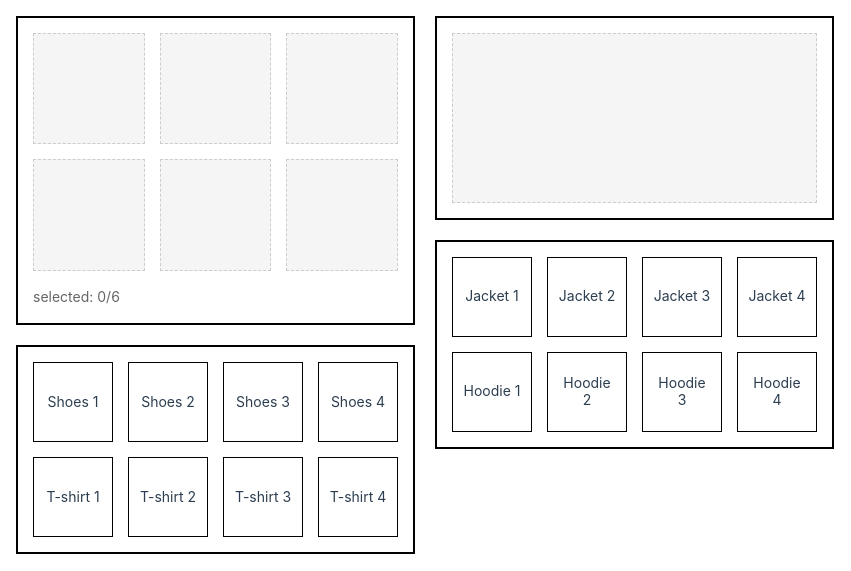
Item Selection Tests › should allow selecting only one store item
// Выбираем первый предмет
Click the element with class "item-box" showing "Jacket 1" at (492,297), box [452, 257, 532, 337]
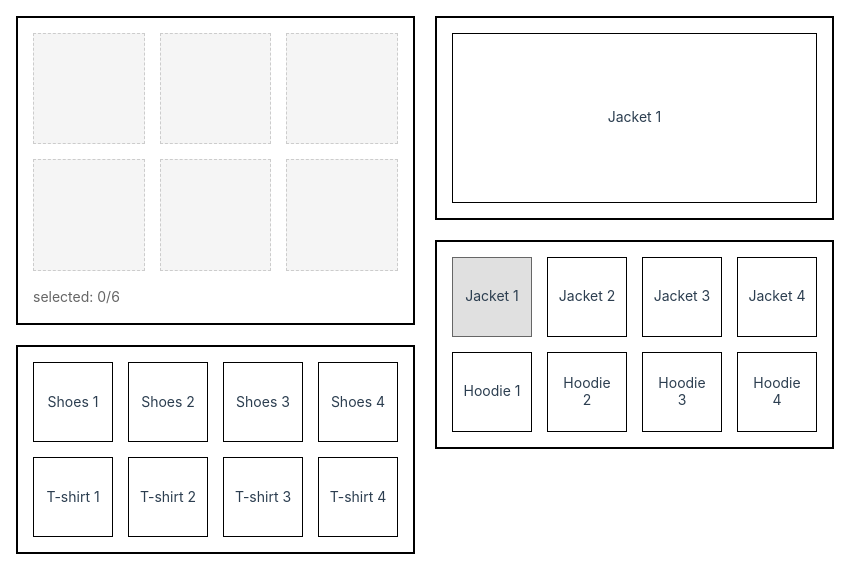
Check: the 4th element with class "item-box" is shown, box [452, 33, 817, 203]
// Выбираем второй предмет
Click the element with class "item-box" showing "Jacket 2" at (587,297), box [547, 257, 627, 337]
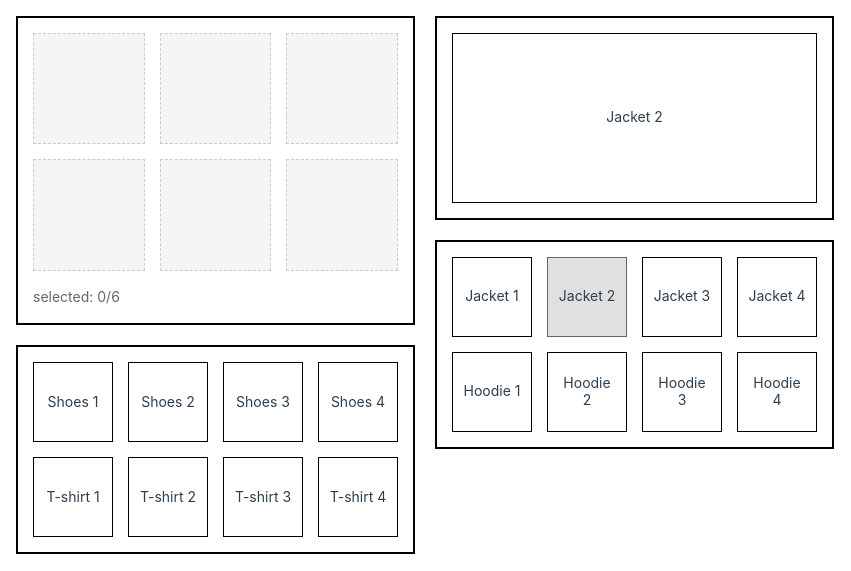
Check: the 1st text with class "item-content" reads "Jacket 2", box [606, 108, 662, 125]
